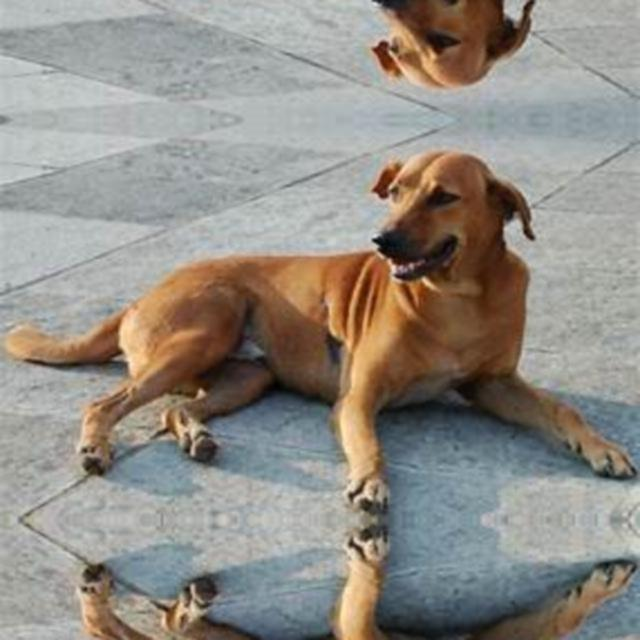dog: (24, 138, 584, 520), (24, 519, 584, 640), (24, 0, 584, 99)
